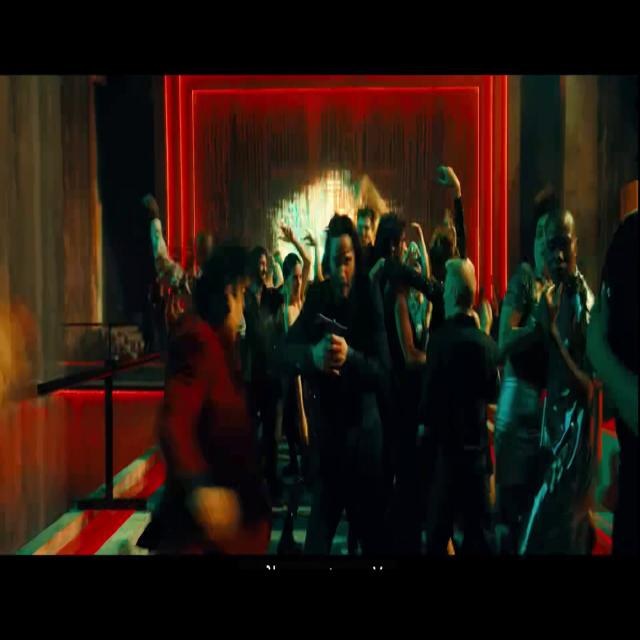weapons: (308, 305, 352, 379)
